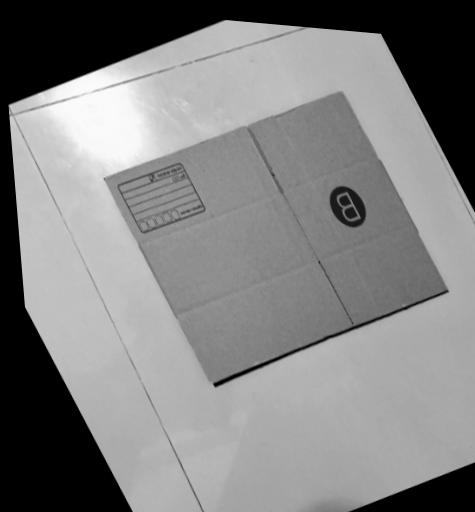box: (87, 59, 461, 411)
class0: (112, 153, 212, 245), (320, 176, 376, 237)
